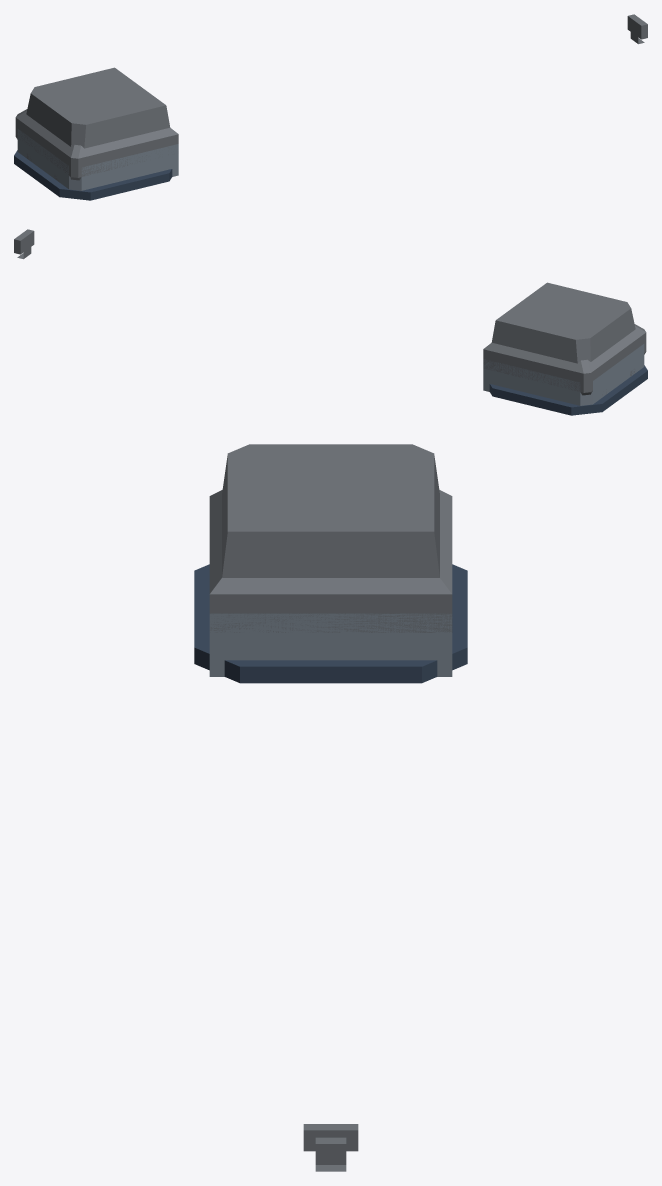
Rendered from BA_Arena.glb.
3 renders of one model, top to bottom at view 1: azimuth 30°, elevation 25°; view 2: azimuth 150°, elevation 25°; view 3: azimuth 270°, elevation 25°, orthographic. The views are drawn at different scales.
Visible parts, largest first — view 1: BA_Arena__pier_base, BA_Arena__pier_crown, BA_Arena__near_block, BA_Arena__coil, BA_Arena__throat_rib; view 2: BA_Arena__pier_base, BA_Arena__pier_crown, BA_Arena__near_block, BA_Arena__coil, BA_Arena__throat_rib; view 3: BA_Arena__pier_base, BA_Arena__pier_crown, BA_Arena__near_block, BA_Arena__coil, BA_Arena__throat_rib, BA_Arena__throat_band.
Part boxes in pixels (box(x1,y1,x2,y2)): BA_Arena__pier_base: box(26, 67, 170, 148); BA_Arena__pier_crown: box(15, 109, 178, 180); BA_Arena__near_block: box(17, 129, 178, 190); BA_Arena__coil: box(14, 150, 172, 200); BA_Arena__throat_rib: box(627, 14, 647, 39); BA_Arena__pier_base: box(491, 282, 635, 363); BA_Arena__pier_crown: box(483, 324, 646, 395); BA_Arena__near_block: box(483, 344, 644, 405); BA_Arena__coil: box(489, 365, 647, 415); BA_Arena__throat_rib: box(14, 229, 34, 254); BA_Arena__pier_base: box(222, 444, 439, 577); BA_Arena__pier_crown: box(209, 490, 452, 632); BA_Arena__near_block: box(209, 613, 452, 676); BA_Arena__coil: box(194, 564, 467, 683); BA_Arena__throat_rib: box(303, 1124, 358, 1151); BA_Arena__throat_band: box(315, 1137, 346, 1171).
Size of the model in its own units: 46 by 5.5 by 9.
